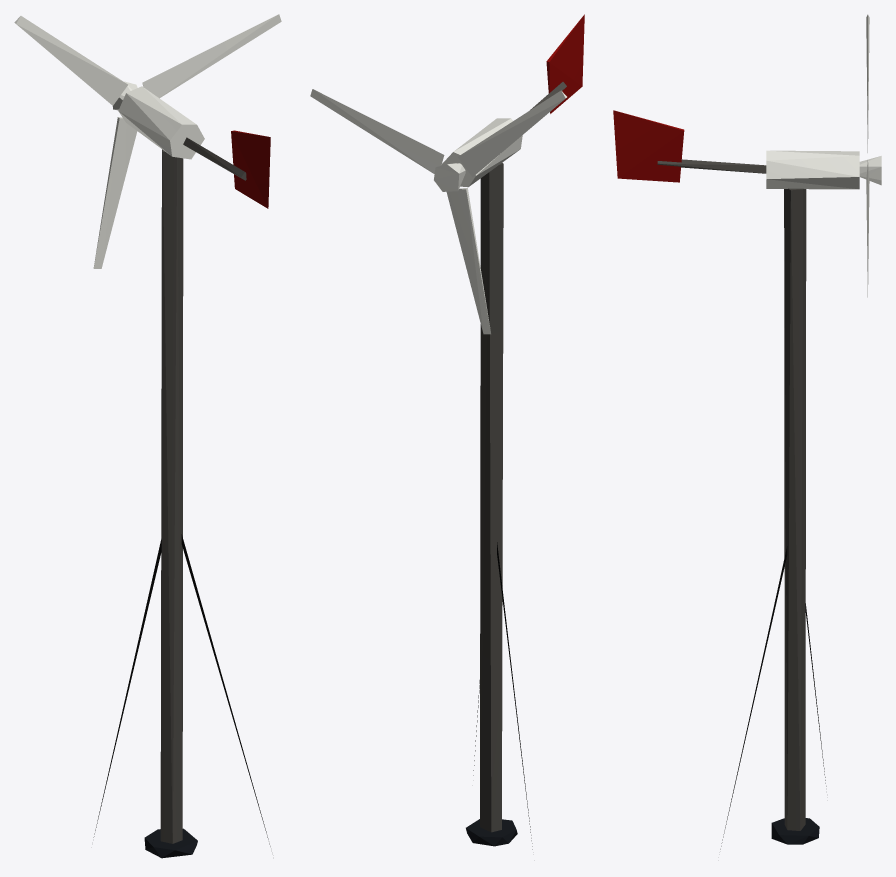
The model's file is tb_upg_deck_turbine.three-web-toon.lod50.glb.
The picture shows the model from 3 angles, left to right: view 1: azimuth 30°, elevation 25°; view 2: azimuth 150°, elevation 25°; view 3: azimuth 270°, elevation 25°; orthographic projection. The views are drawn at different scales.
Parts seen in each view (by area): view 1: tb_upg_deck_turbine_mesh_lod, deck_turbine_rotor_mesh_lod; view 2: tb_upg_deck_turbine_mesh_lod, deck_turbine_rotor_mesh_lod; view 3: tb_upg_deck_turbine_mesh_lod, deck_turbine_rotor_mesh_lod.
Part boxes in pixels (left/top/right/bottom): tb_upg_deck_turbine_mesh_lod: left=93, top=86, right=270, bottom=858; deck_turbine_rotor_mesh_lod: left=14, top=14, right=281, bottom=268; tb_upg_deck_turbine_mesh_lod: left=441, top=14, right=584, bottom=849; deck_turbine_rotor_mesh_lod: left=310, top=89, right=566, bottom=334; tb_upg_deck_turbine_mesh_lod: left=613, top=110, right=859, bottom=849; deck_turbine_rotor_mesh_lod: left=859, top=14, right=881, bottom=297.
Bounding box in the file's own units: 1.29 × 3.83 × 1.21.
